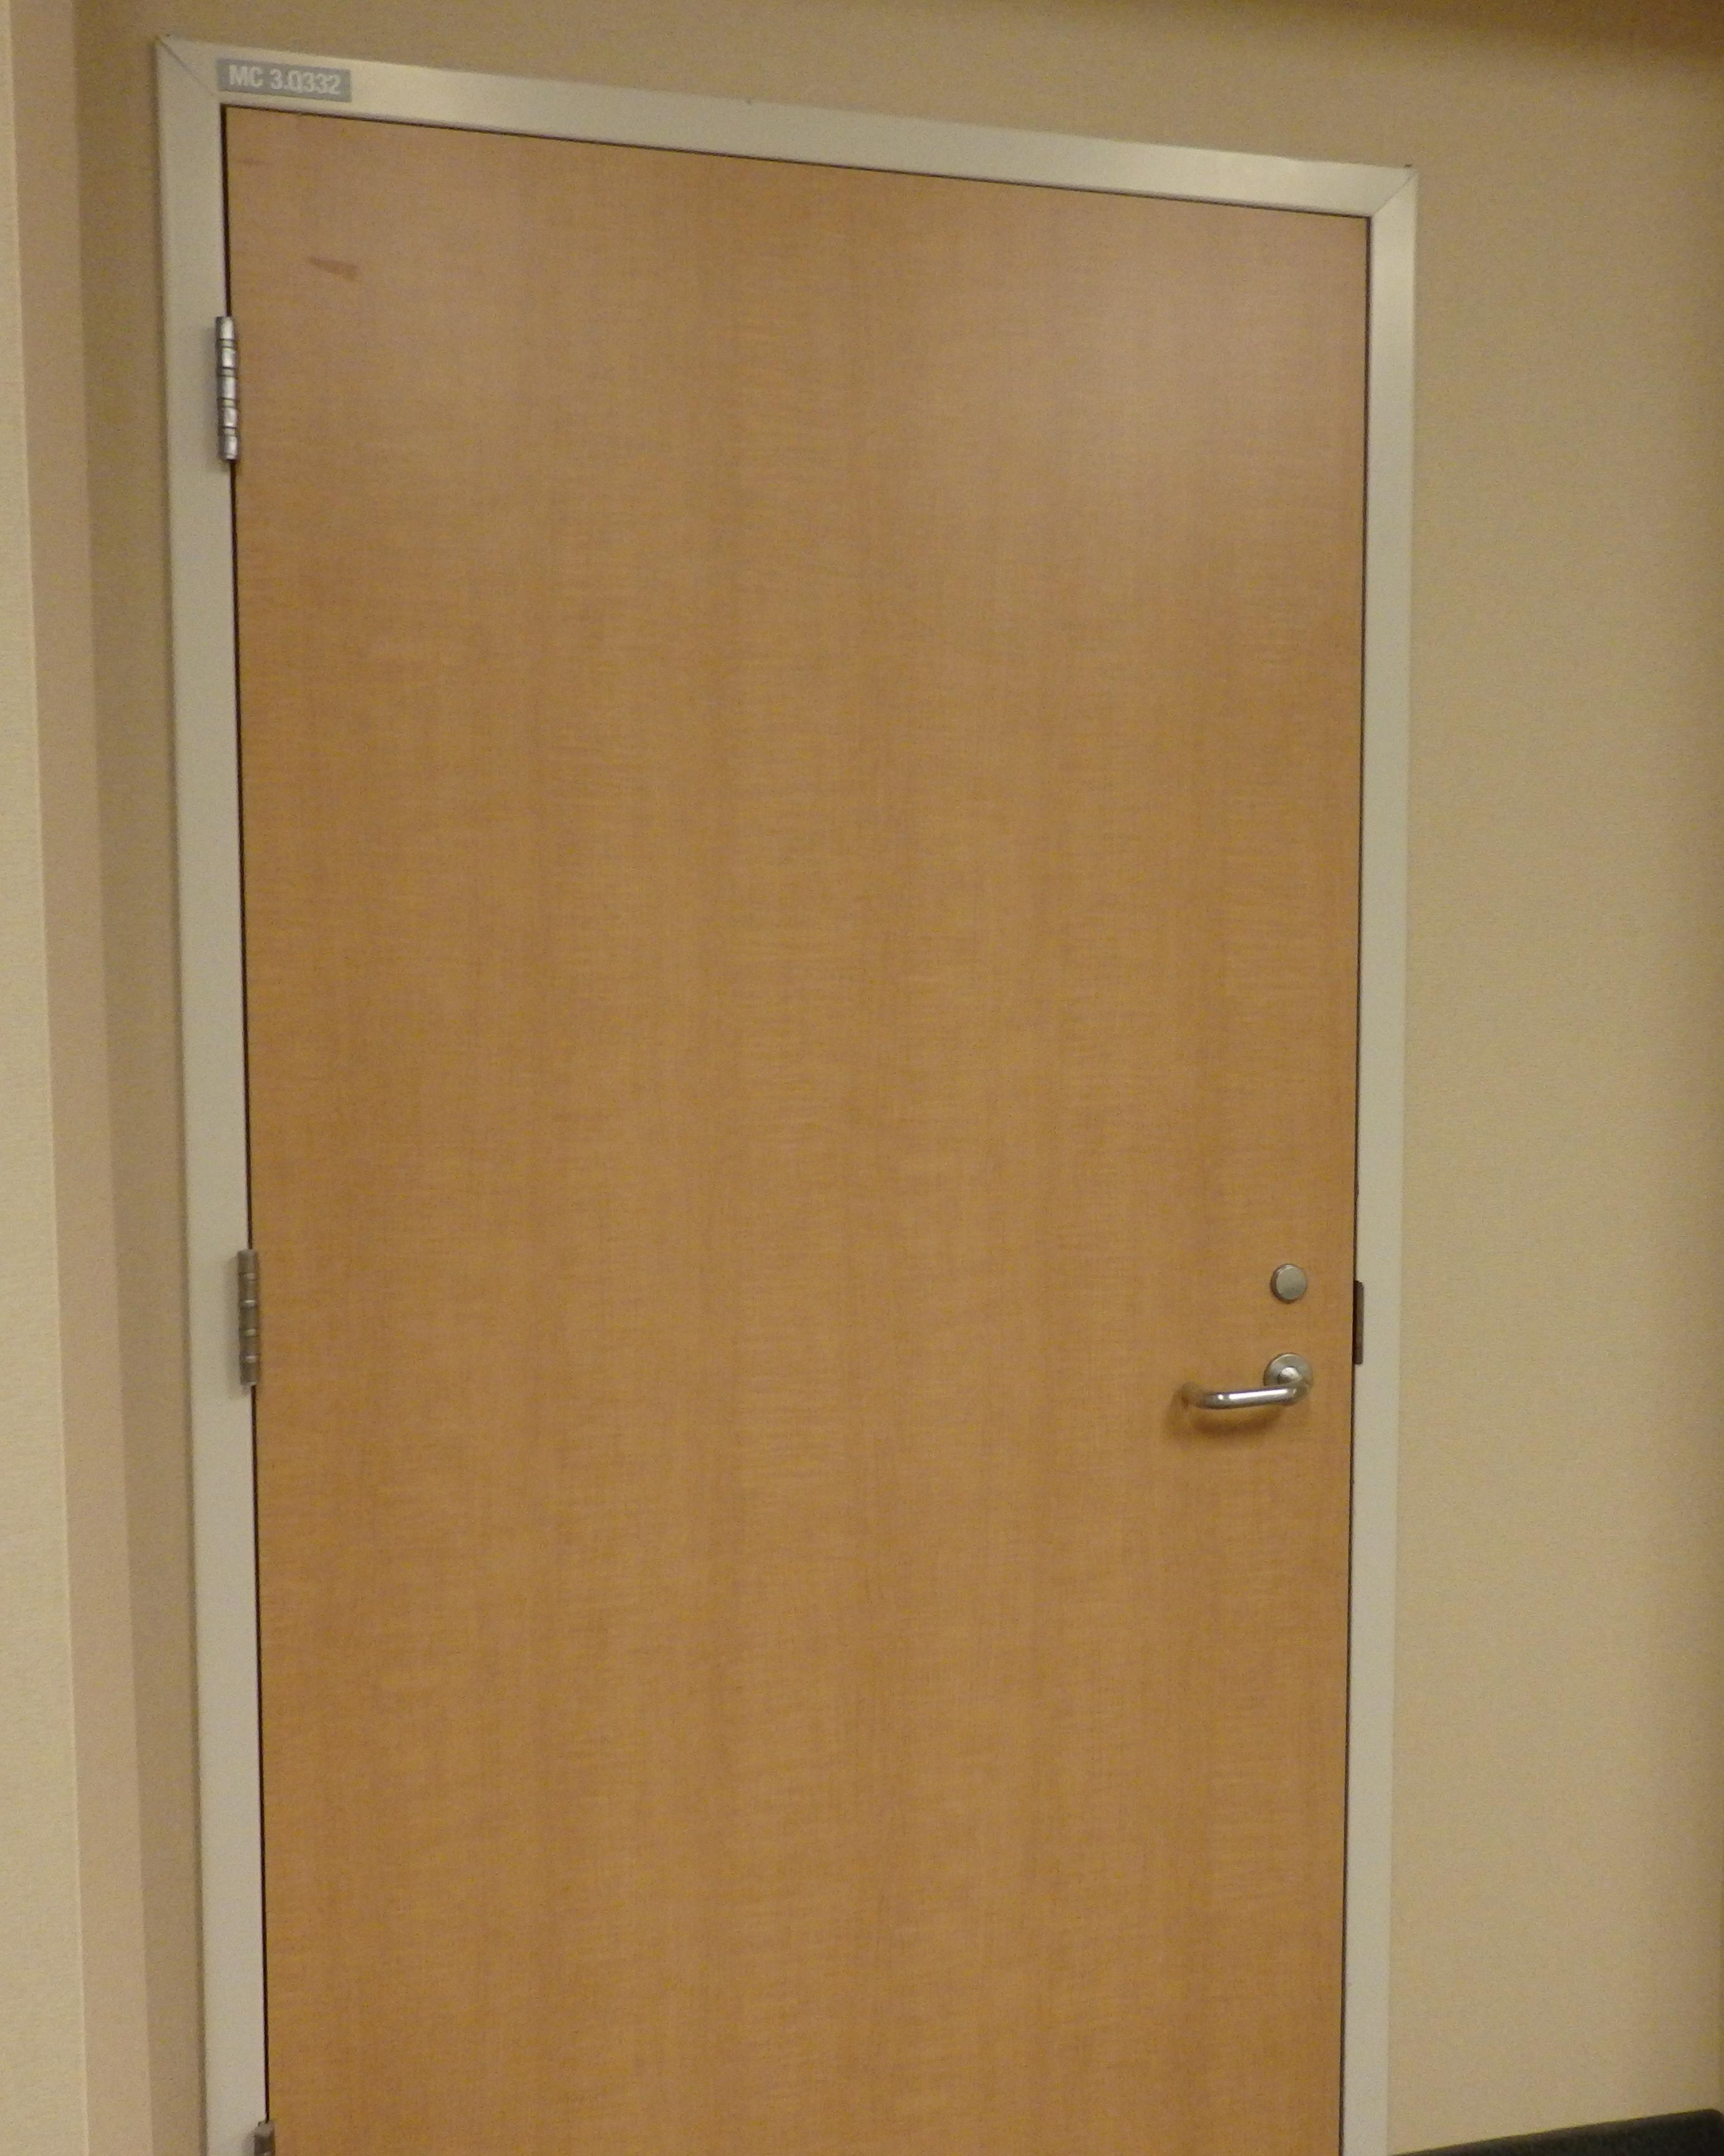door: (204, 93, 1363, 2156)
